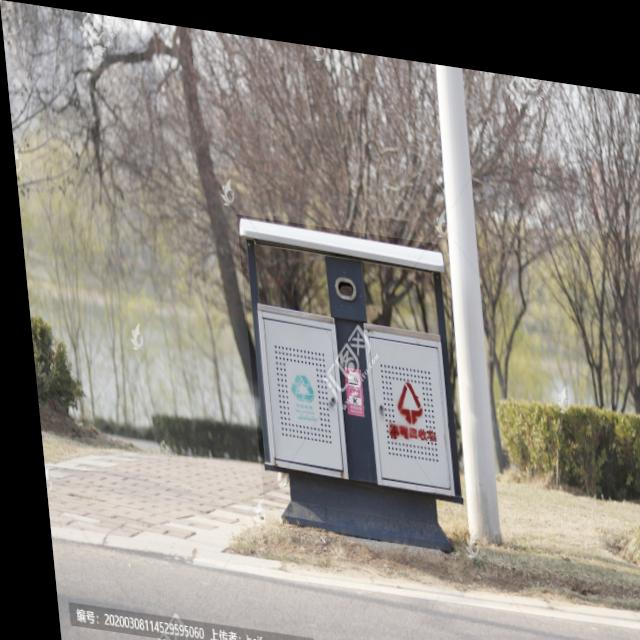garbage_bin: (233, 208, 462, 542)
